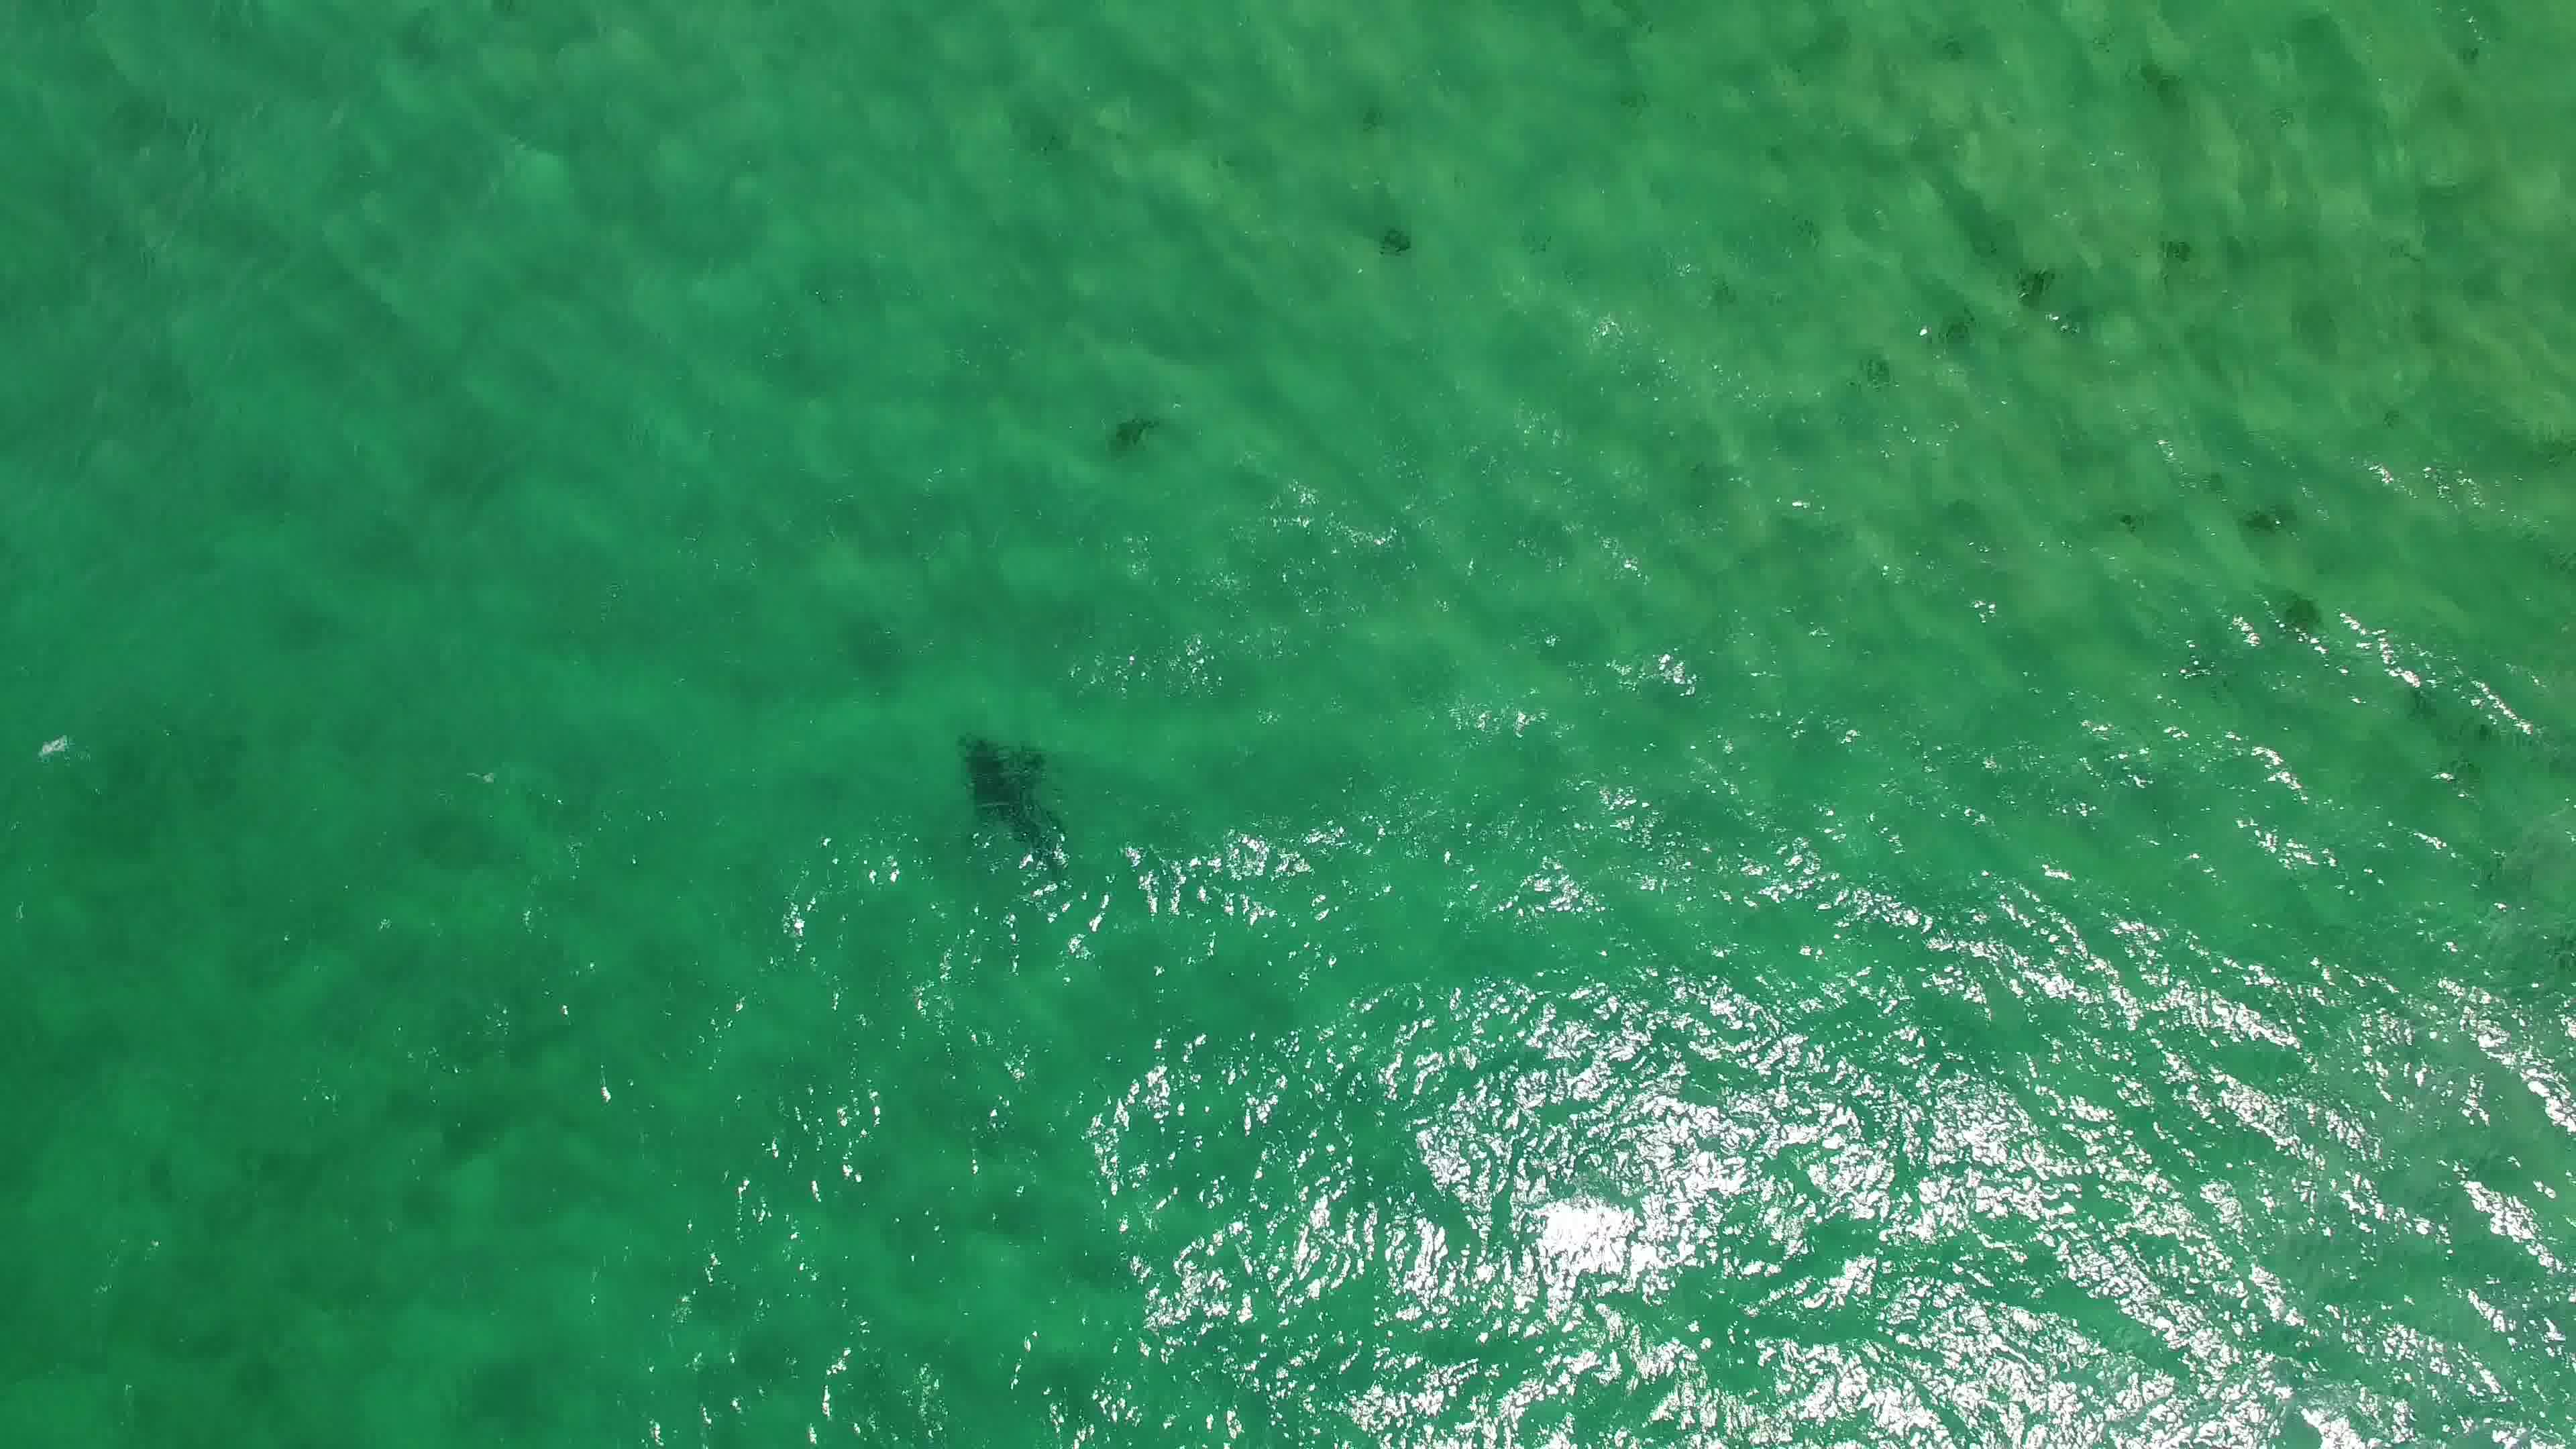shark: (948, 727, 1077, 883)
